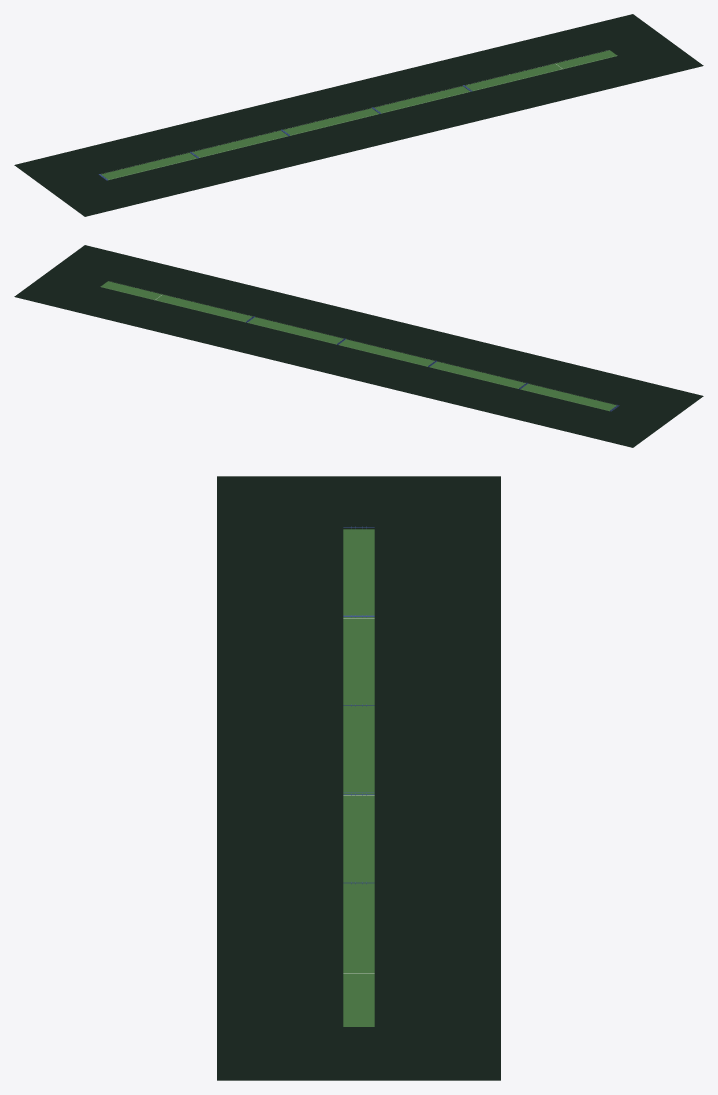
The model's file is generic-straight-1000.glb.
3 renders of one model, top to bottom at view 1: azimuth 30°, elevation 25°; view 2: azimuth 150°, elevation 25°; view 3: azimuth 270°, elevation 25°, orthographic. The views are drawn at different scales.
Visible parts, largest first — view 1: Terrain, Surface; view 2: Terrain, Surface; view 3: Terrain, Surface.
Part boxes in pixels (x1,y1,x2,y2): Terrain: (14, 14, 703, 216); Surface: (101, 50, 617, 180); Terrain: (14, 245, 703, 447); Surface: (100, 281, 616, 411); Terrain: (217, 476, 500, 1080); Surface: (343, 529, 374, 1026).
Size of the model in its own units: 1360 by 4.8 by 270.
